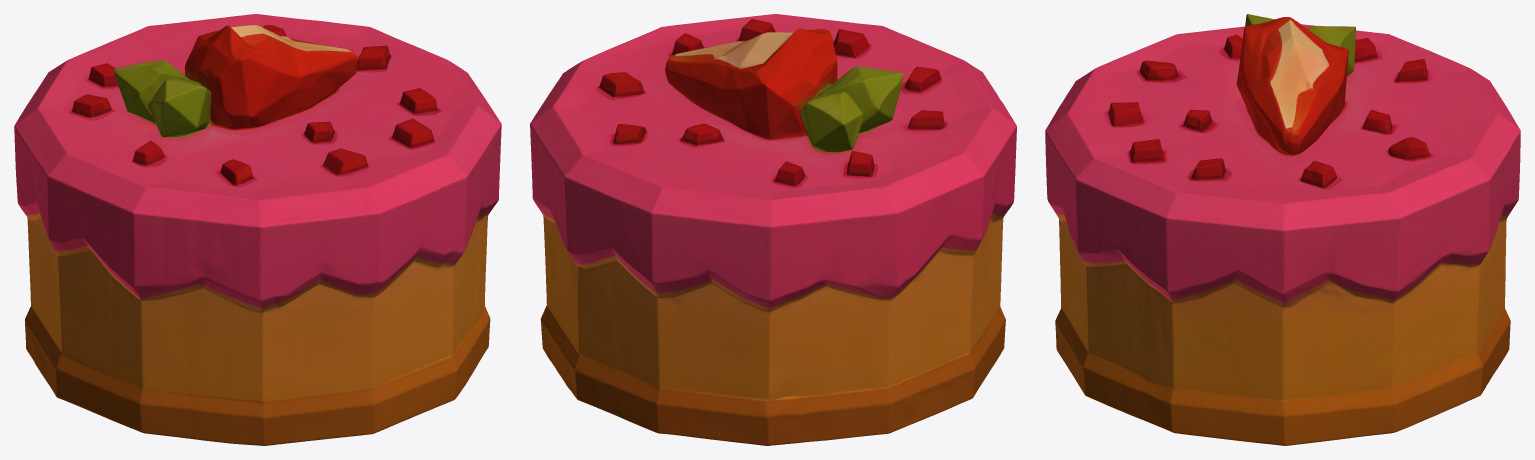
File: cake fresa 3d model.glb
3 renders of one model, left to right at view 1: azimuth 30°, elevation 25°; view 2: azimuth 150°, elevation 25°; view 3: azimuth 270°, elevation 25°, orthographic. The views are drawn at different scales.
Visible parts, largest first — view 1: tripo_node_41551861-14b7-4a6f-9e39-6cb3293e3d54; view 2: tripo_node_41551861-14b7-4a6f-9e39-6cb3293e3d54; view 3: tripo_node_41551861-14b7-4a6f-9e39-6cb3293e3d54.
Part boxes in pixels (x1,y1,x2,y2): tripo_node_41551861-14b7-4a6f-9e39-6cb3293e3d54: (14,14,501,445); tripo_node_41551861-14b7-4a6f-9e39-6cb3293e3d54: (530,14,1016,445); tripo_node_41551861-14b7-4a6f-9e39-6cb3293e3d54: (1045,14,1520,445).
Size of the model in its own units: 0.999 by 0.9512 by 1.
1 material, 1 textured.
